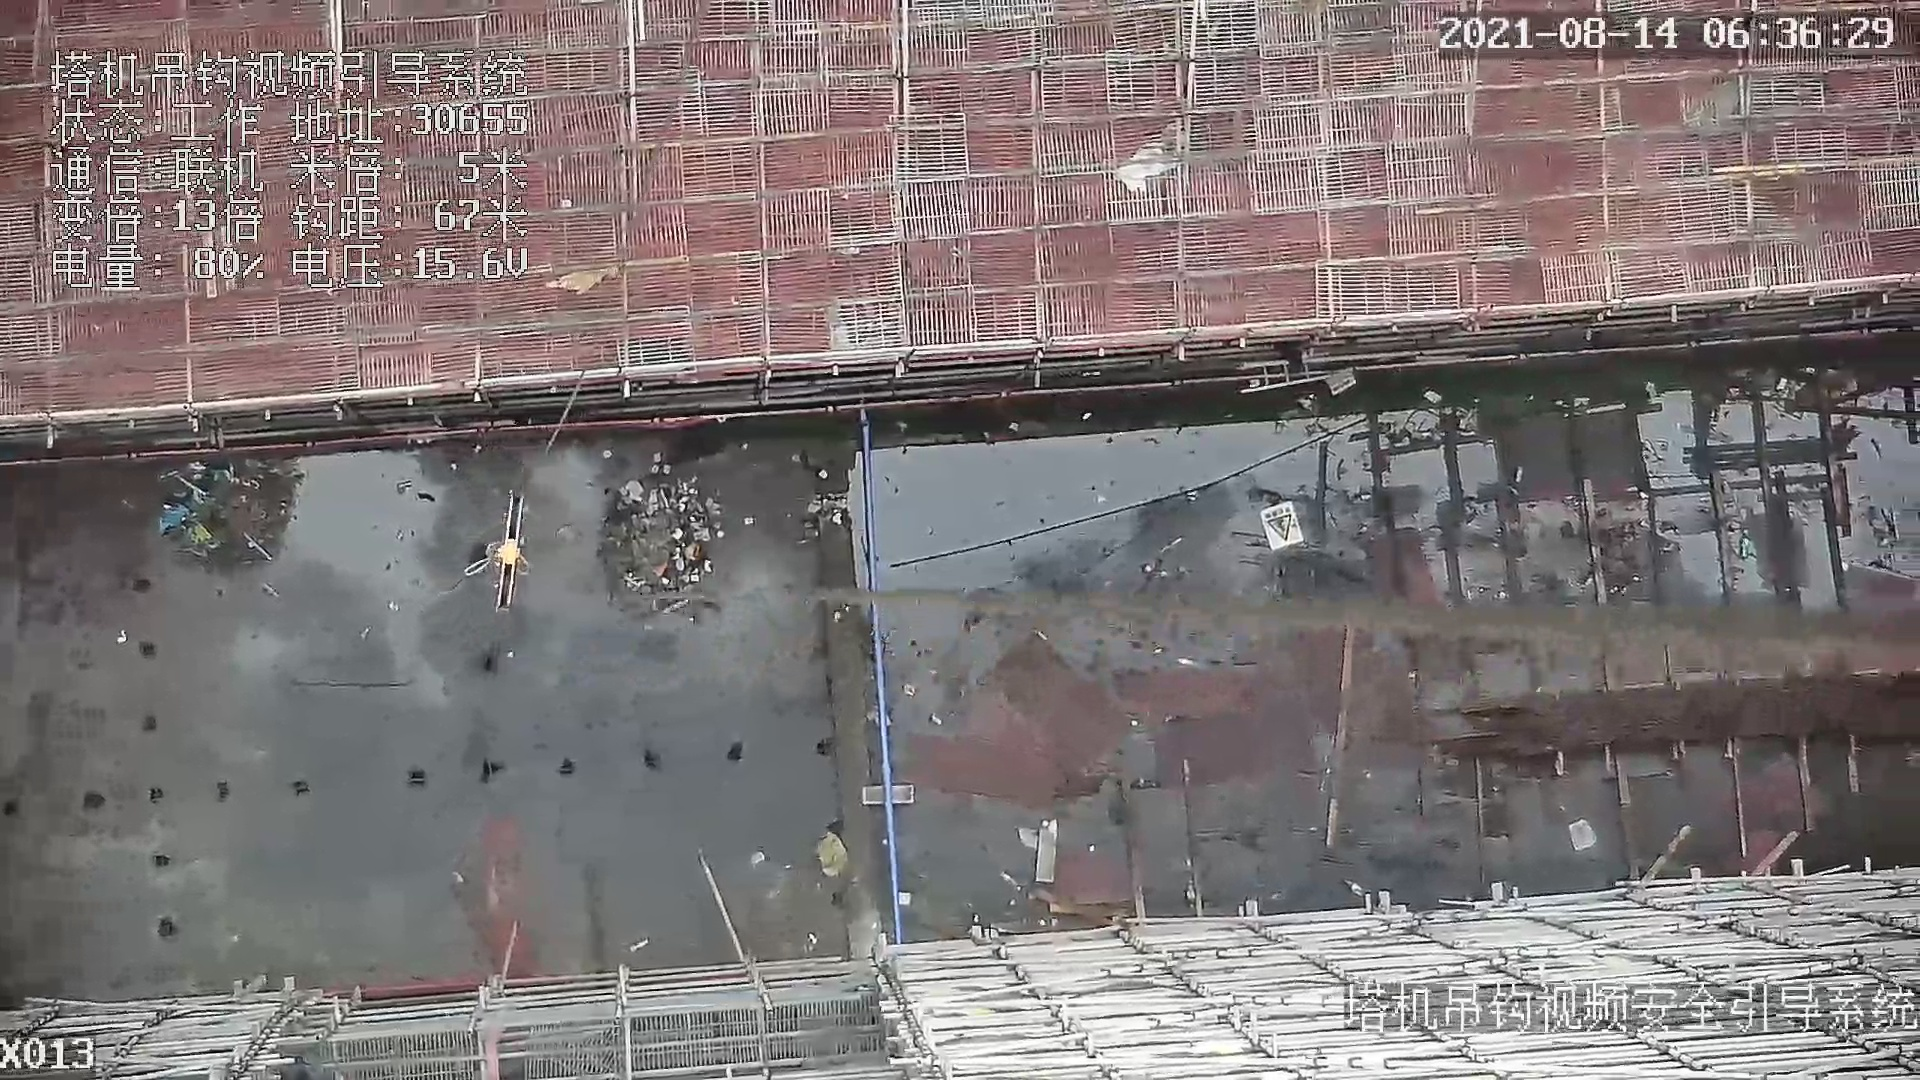hook: (468, 491, 520, 611)
